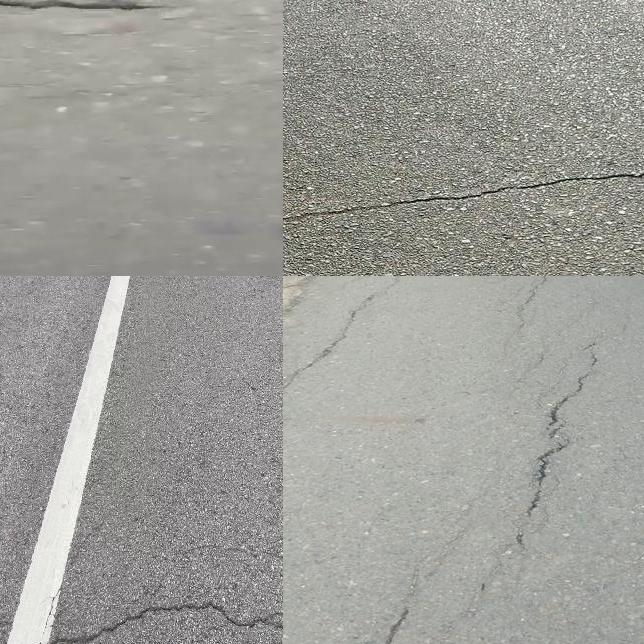Melintang: (283, 156, 644, 233), (0, 587, 283, 644), (0, 0, 283, 22)
Memanjang: (483, 350, 607, 582)
